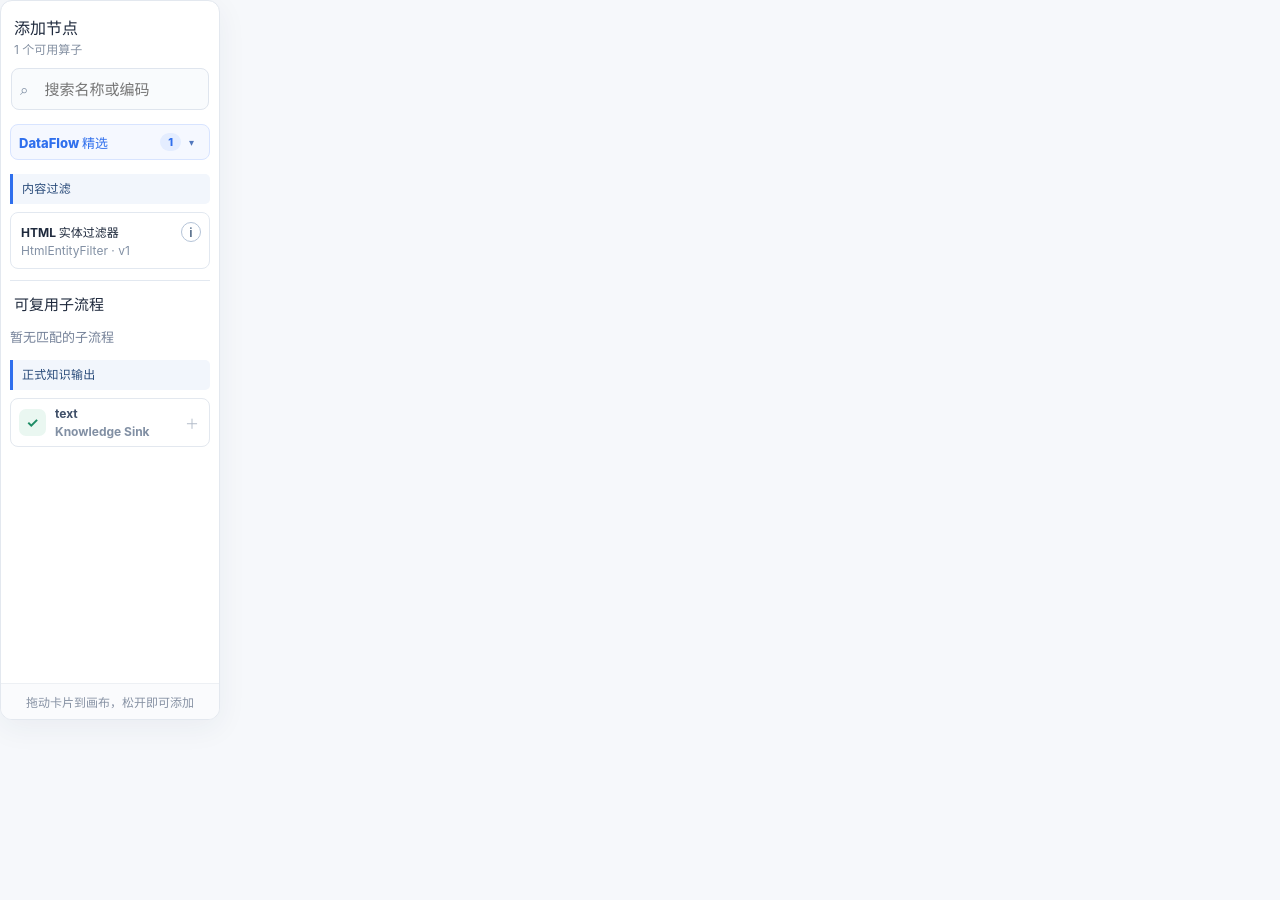
Scenario: operator help has no graph mutations › keeps detail open while crossing the hover gap and closes after leaving
This screenshot has width=1280, height=900.
Hover over the button with class "operator-info": (191, 232) [181,222,201,242]
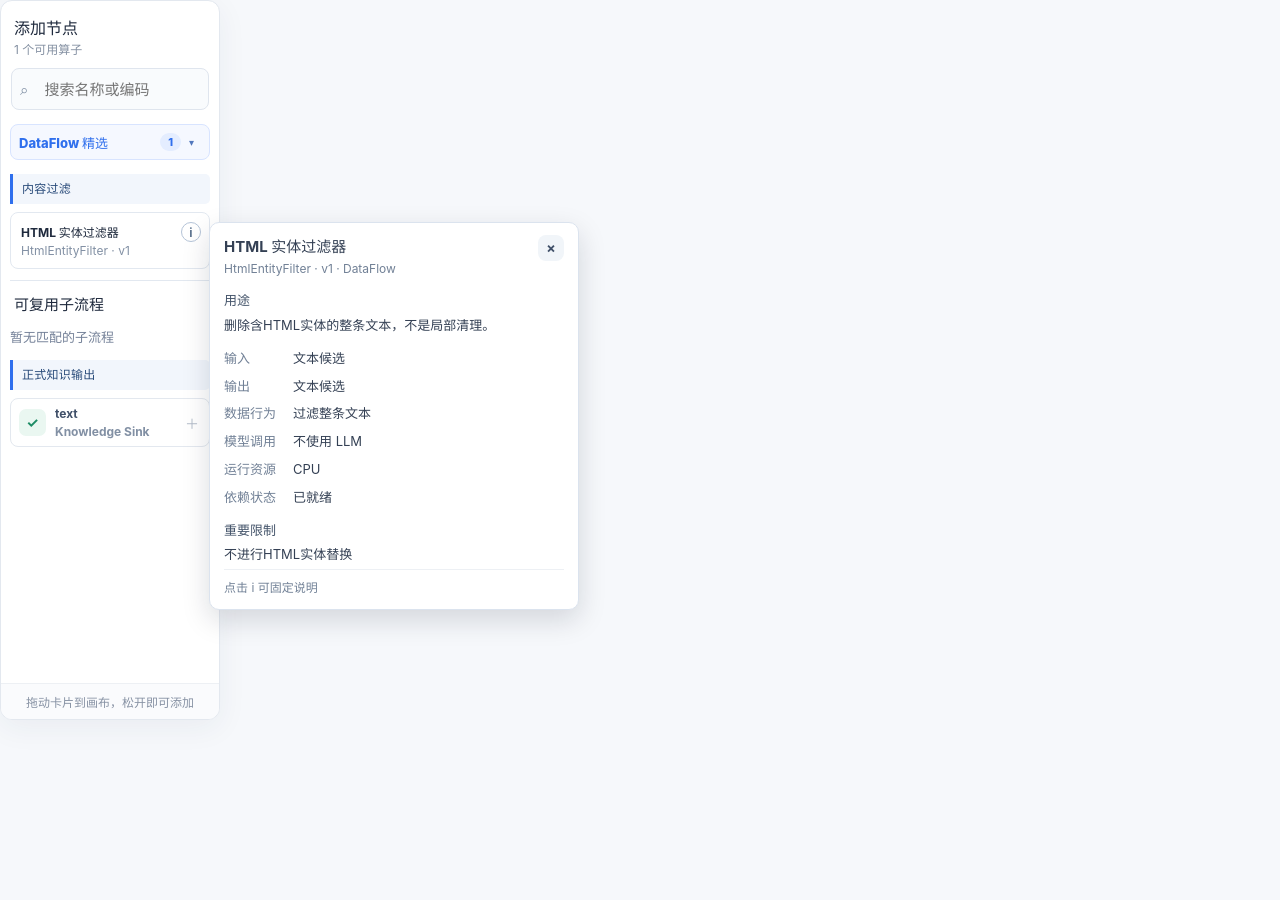
Hover over the dialog: (394, 416) [209,222,579,610]
Now the dialog is shown
Move the pointer off the dialog, box [209,222,579,610]
Wait 200 ms
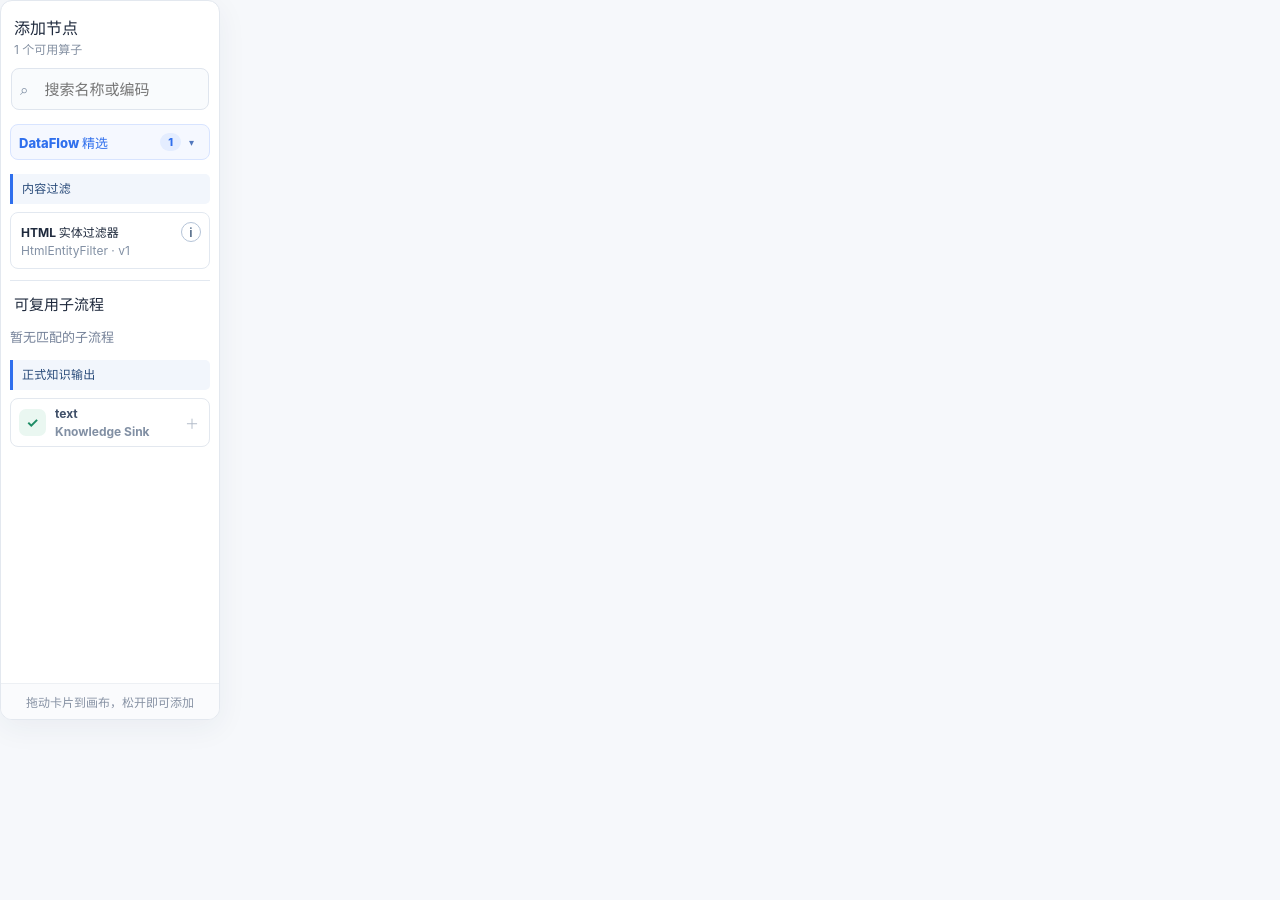
Now the dialog is gone
